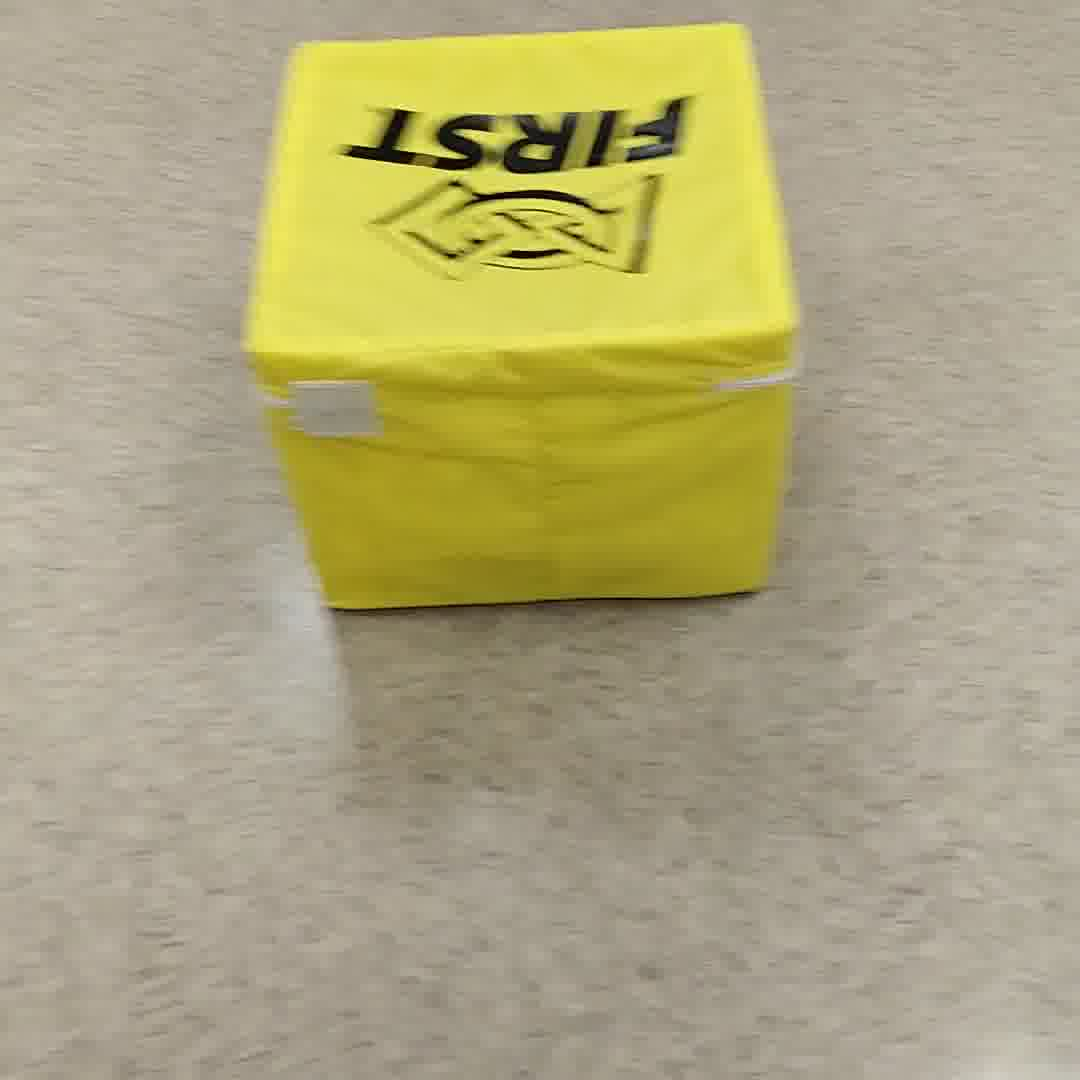box: (260, 17, 789, 600)
